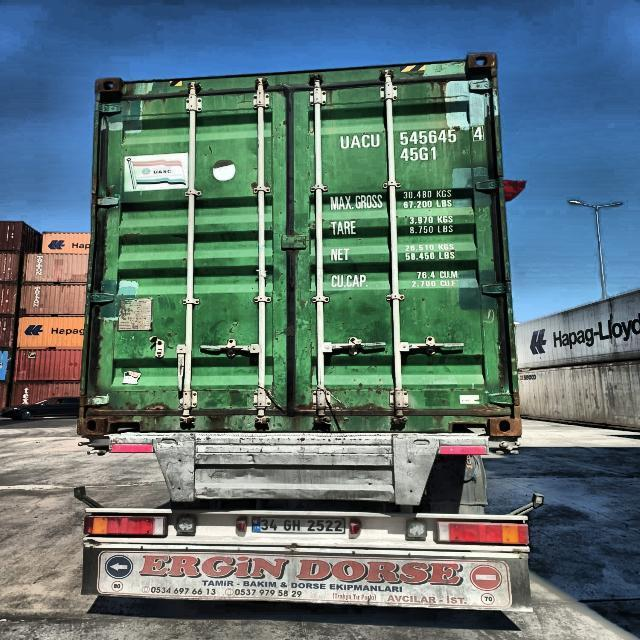ISO: (401, 147, 434, 163)
container_number: (338, 128, 488, 147)
